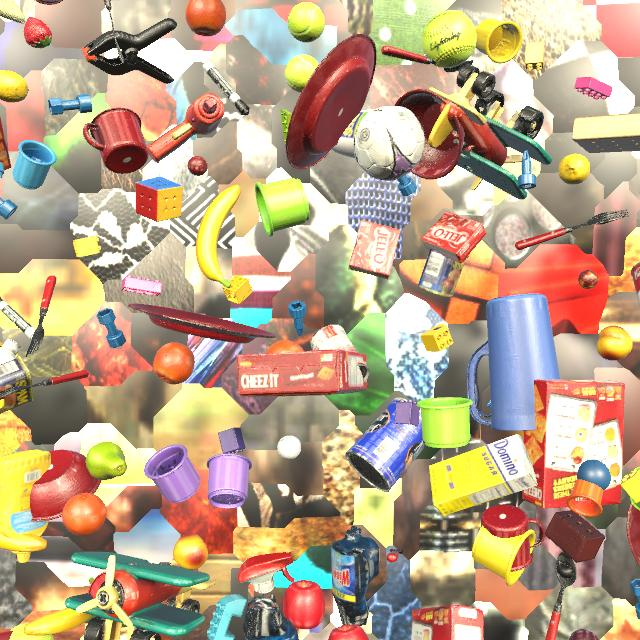ycb_002_master_chef_can: (345, 397, 427, 492)
ycb_003_cracker_box: (522, 379, 625, 509), (236, 349, 367, 397), (411, 605, 484, 640), (0, 117, 11, 170)
ycb_004_sugar_box: (429, 434, 538, 517)
ycb_005_tomato_soup_can: (310, 324, 370, 382), (631, 262, 640, 306)
ycb_006_mustard_bottle: (0, 450, 51, 563)
ycb_009_gelatin_box: (421, 211, 486, 264), (348, 220, 401, 279)
ycb_010_potted_meat_can: (418, 249, 469, 297), (0, 356, 34, 414)
ycb_011_banana: (196, 185, 242, 289), (24, 578, 94, 636), (0, 533, 47, 552)
ycb_012_strawberry: (24, 17, 52, 48)
ycb_013_apple: (283, 580, 325, 629), (328, 624, 369, 640)
ycb_014_lemon: (558, 154, 590, 185), (0, 70, 29, 103)
ycb_015_peach: (173, 533, 208, 570), (597, 326, 633, 361)
ycb_016_pear: (86, 442, 127, 480)
ycb_017_orange: (62, 493, 107, 536), (153, 342, 195, 384), (185, 0, 226, 37), (266, 340, 304, 353)
ycb_018_plum: (569, 629, 599, 640)
